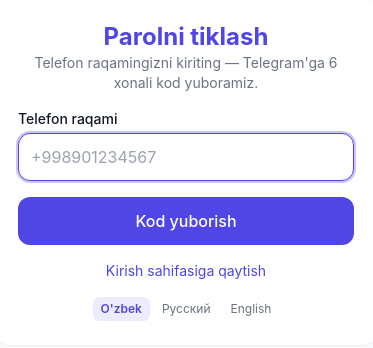
it: ResetPasswordPage › telefonsiz kod so‘ralmaydi
Click the button "Kod yuborish". click: (186, 221)
box: [18, 197, 354, 245]
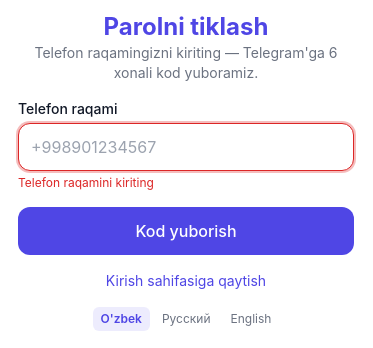
Expected: the text "Telefon raqamini kiriting" is shown, [18, 175, 154, 190]
